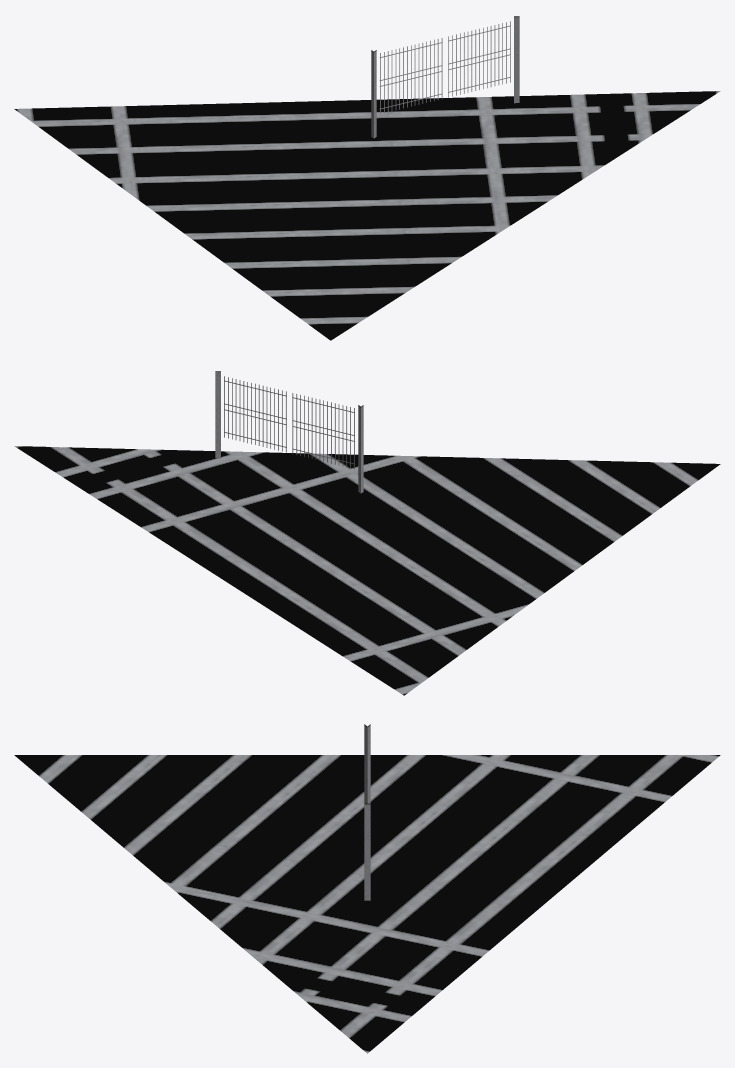
The model's file is fence-mesh-grey-gateX2-1m-cbj_LOD03.gltf.
The picture shows the model from 3 angles, top to bottom: view 1: azimuth 30°, elevation 25°; view 2: azimuth 150°, elevation 25°; view 3: azimuth 270°, elevation 25°; orthographic projection. The views are drawn at different scales.
Parts seen in each view (by area): view 1: post.001; view 2: post.001; view 3: post.001.
Boxes of the visible parts, <box> form: post.001: <box>14,16,720,340</box>; post.001: <box>14,371,720,695</box>; post.001: <box>14,724,720,1053</box>.
Bounding box in the file's own units: 10.56 × 2.31 × 10.56.
